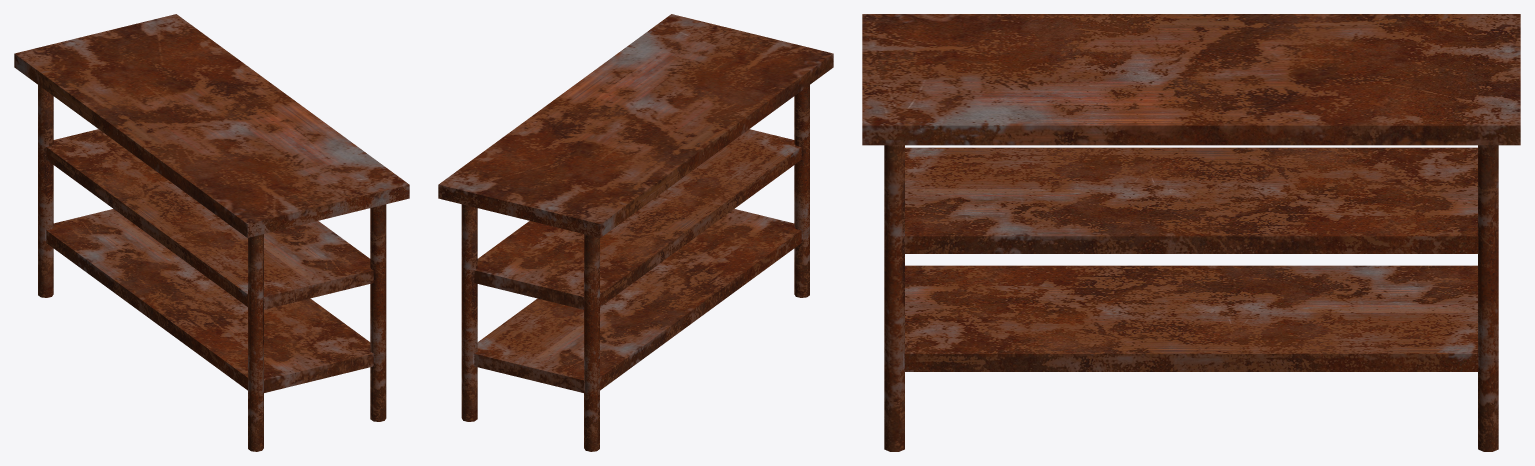
The model's file is Table.glb.
3 views of the same model, side by side, from view 1: azimuth 30°, elevation 25°; view 2: azimuth 150°, elevation 25°; view 3: azimuth 270°, elevation 25° (orthographic). The views are drawn at different scales.
Parts seen in each view (by area): view 1: defaultMaterial; view 2: defaultMaterial; view 3: defaultMaterial.
Boxes of the visible parts, box(x1,y1,x2,y2) form: defaultMaterial: box(14, 14, 409, 451); defaultMaterial: box(438, 14, 833, 451); defaultMaterial: box(862, 14, 1520, 451).
Size of the model in its own units: 0.61 by 0.857 by 1.52.
1 material, 1 textured.
